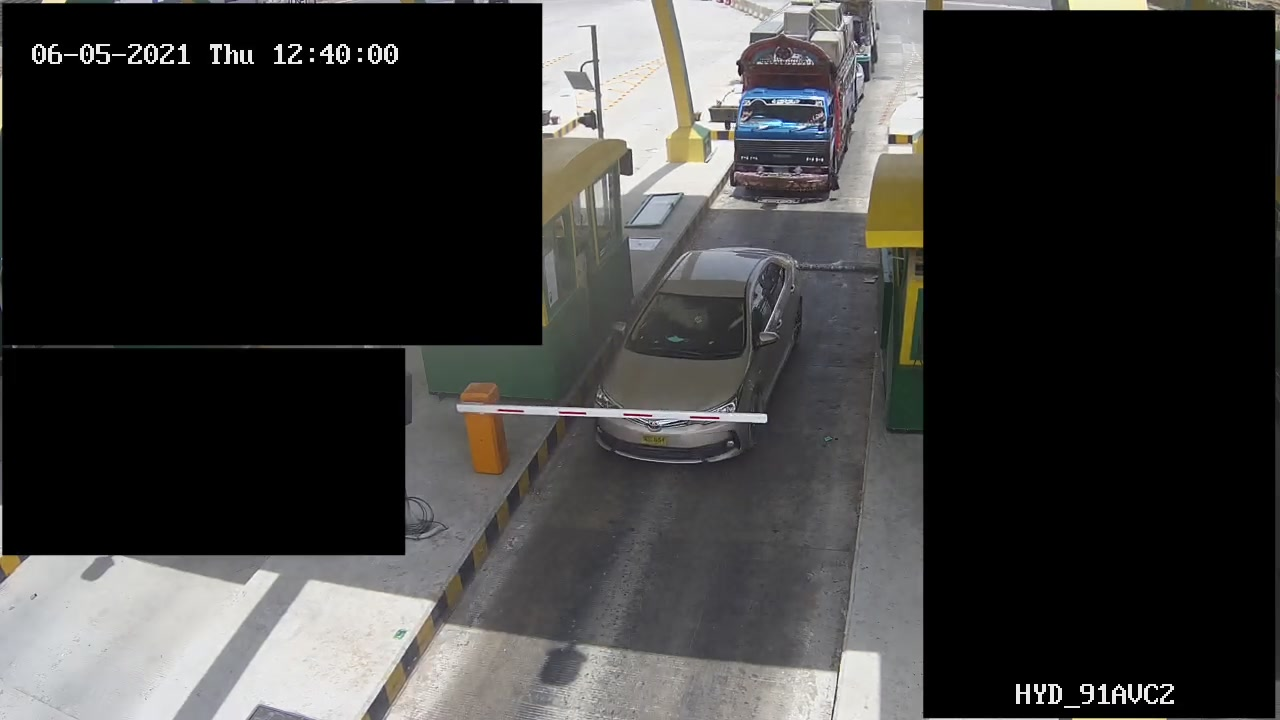F1: (591, 242, 809, 464)
F3: (729, 2, 872, 203)
